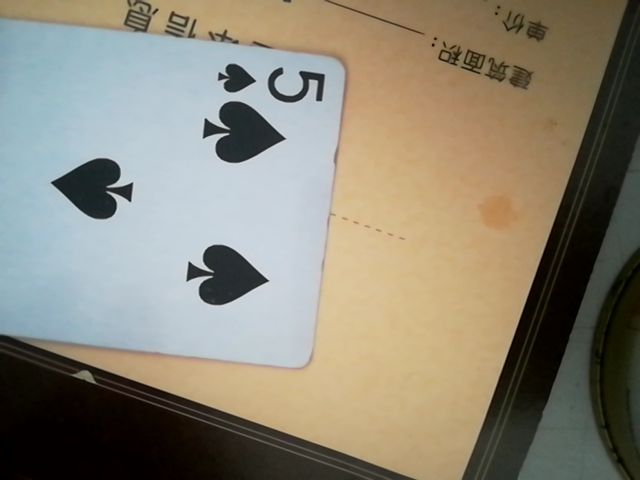ht 5: (0, 8, 354, 373)
